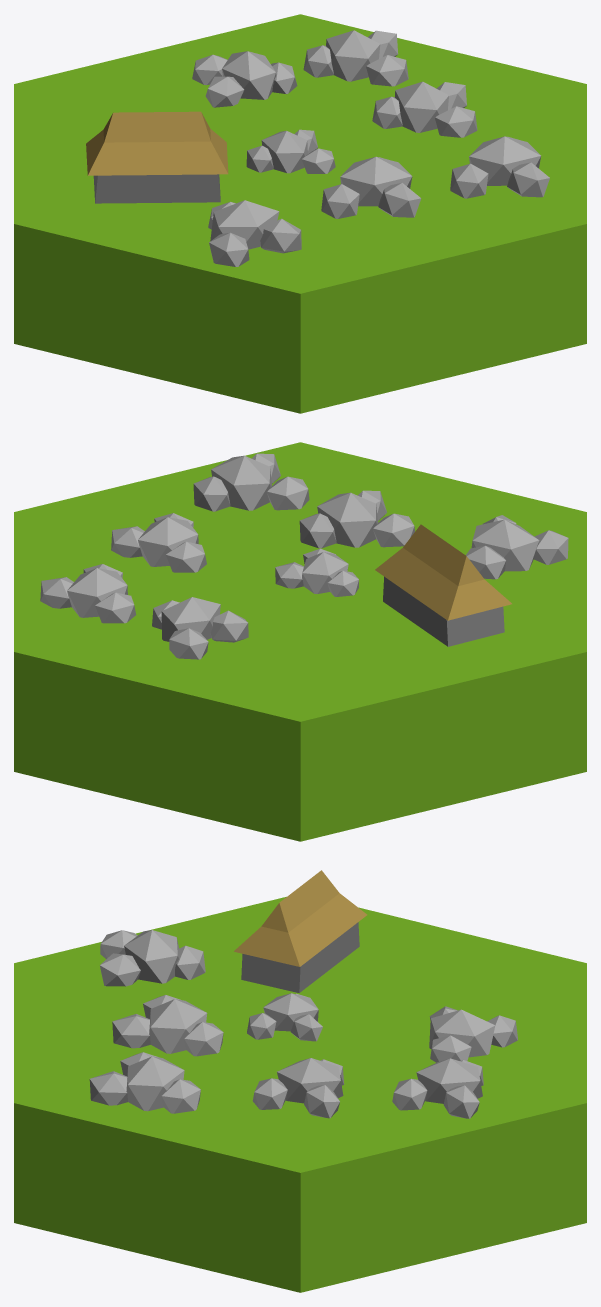
Rendered from Casas_Rocoso_1.fbx.
3 views of the same model, one above another, from view 1: azimuth 30°, elevation 25°; view 2: azimuth 150°, elevation 25°; view 3: azimuth 270°, elevation 25° (orthographic).
Visible parts, largest first — view 1: Casas_Rocoso_1; view 2: Casas_Rocoso_1; view 3: Casas_Rocoso_1.
Part boxes in pixels (<box>): Casas_Rocoso_1: <box>14,14,586,413</box>; Casas_Rocoso_1: <box>14,442,586,841</box>; Casas_Rocoso_1: <box>14,870,586,1292</box>.
Size of the model in its own units: 200 by 65.63 by 173.
